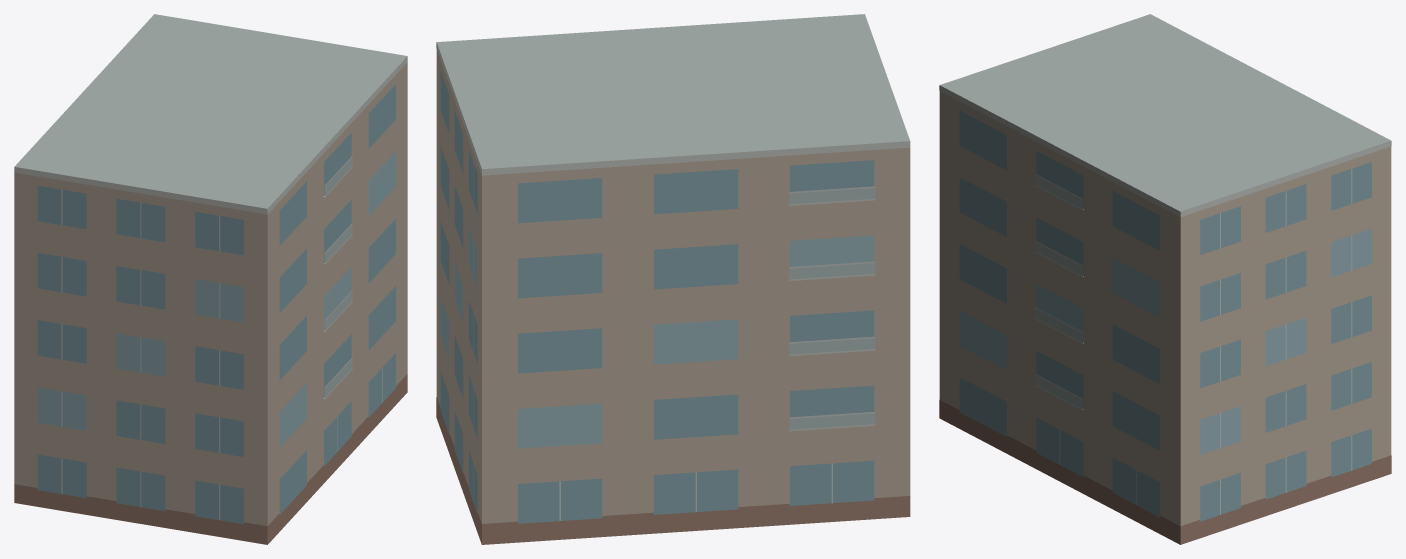
Rendered from survey-upis-32724199.glb.
3 views of the same model, side by side, from view 1: azimuth 30°, elevation 25°; view 2: azimuth 150°, elevation 25°; view 3: azimuth 270°, elevation 25° (orthographic). The views are drawn at different scales.
Visible parts, largest first — view 1: survey-upis-32724199.tmp; view 2: survey-upis-32724199.tmp; view 3: survey-upis-32724199.tmp.
Boxes of the visible parts, bbox=[...] form: survey-upis-32724199.tmp: bbox=[14, 14, 407, 544]; survey-upis-32724199.tmp: bbox=[436, 14, 910, 544]; survey-upis-32724199.tmp: bbox=[939, 14, 1391, 544].
Size of the model in its own units: 18.07 by 14.2 by 17.46.
